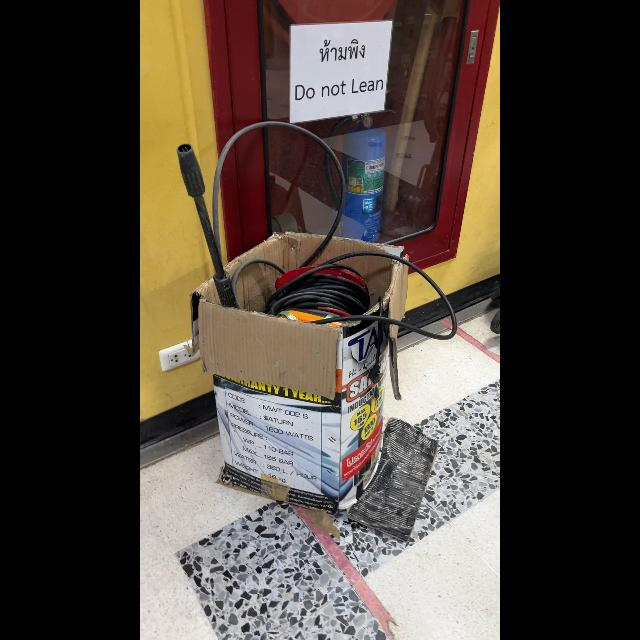cardboard_box: (189, 222, 411, 480)
